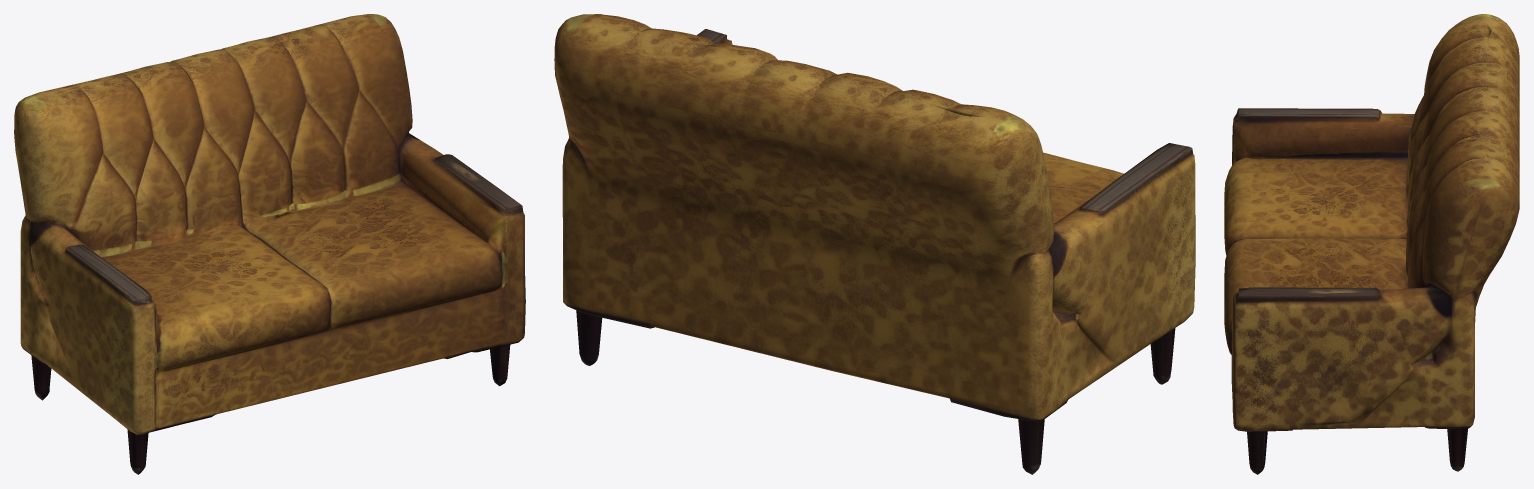
The model's file is Loveseat_Retro_Golden_34InchesTall_0222191039_texture.glb.
The picture shows the model from 3 angles, left to right: view 1: azimuth 30°, elevation 25°; view 2: azimuth 150°, elevation 25°; view 3: azimuth 270°, elevation 25°; orthographic projection. The views are drawn at different scales.
Visible parts, largest first — view 1: Mesh_0.001; view 2: Mesh_0.001; view 3: Mesh_0.001.
Part boxes in pixels (x1,y1,x2,y2): Mesh_0.001: (14, 14, 525, 474); Mesh_0.001: (554, 14, 1195, 474); Mesh_0.001: (1224, 14, 1519, 474).
Bounding box in the file's own units: 1.23 × 0.8636 × 0.7981.
Materials: 1 (1 with a texture image).
